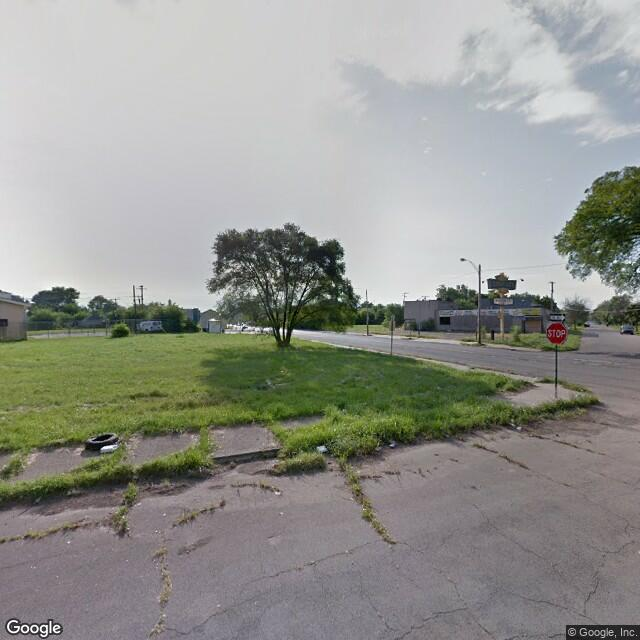litter: (80, 432, 121, 448), (99, 444, 126, 455), (314, 442, 327, 453), (374, 444, 384, 454), (32, 494, 43, 501), (515, 426, 521, 432), (274, 490, 280, 495), (390, 442, 394, 446)
